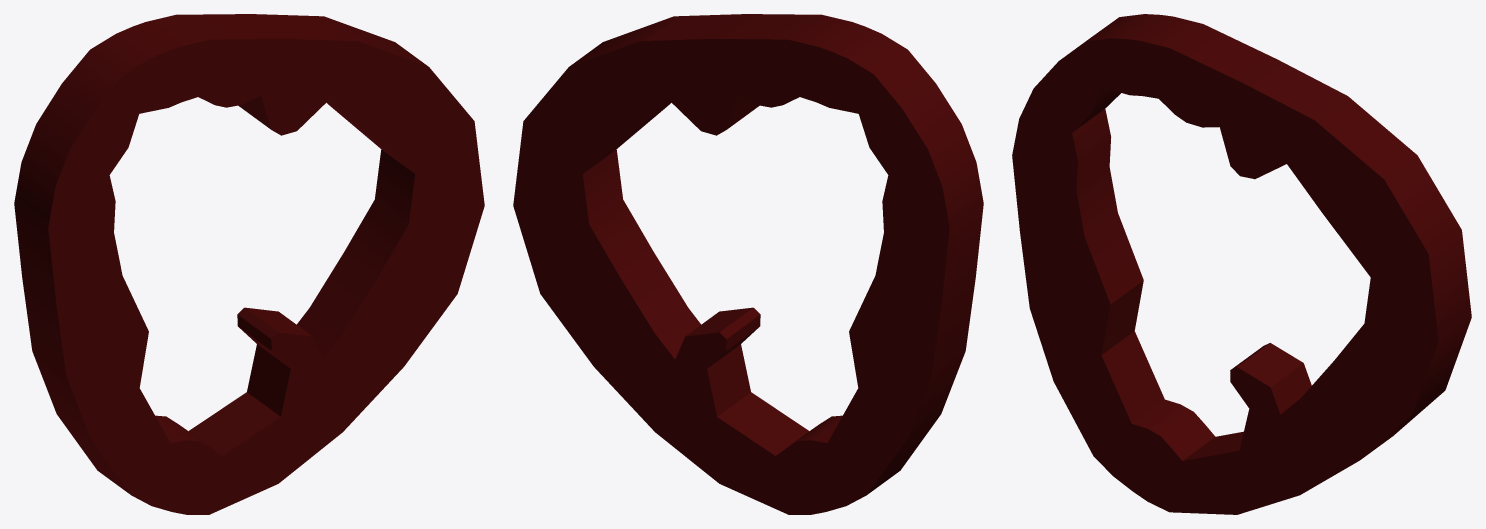
The model's file is Kevin_Naupari_Bell_Pepper_Model_Slices02.fbx.
3 views of the same model, side by side, from view 1: azimuth 30°, elevation 25°; view 2: azimuth 150°, elevation 25°; view 3: azimuth 330°, elevation 25° (orthographic). The views are drawn at different scales.
Parts seen in each view (by area): view 1: Pepper_Ring_2; view 2: Pepper_Ring_2; view 3: Pepper_Ring_2.
Part boxes in pixels (bbox=[...]): Pepper_Ring_2: bbox=[14, 14, 484, 514]; Pepper_Ring_2: bbox=[513, 14, 983, 514]; Pepper_Ring_2: bbox=[1012, 14, 1471, 514].
Bounding box in the file's own units: 1.87 × 1.95 × 0.2528.
